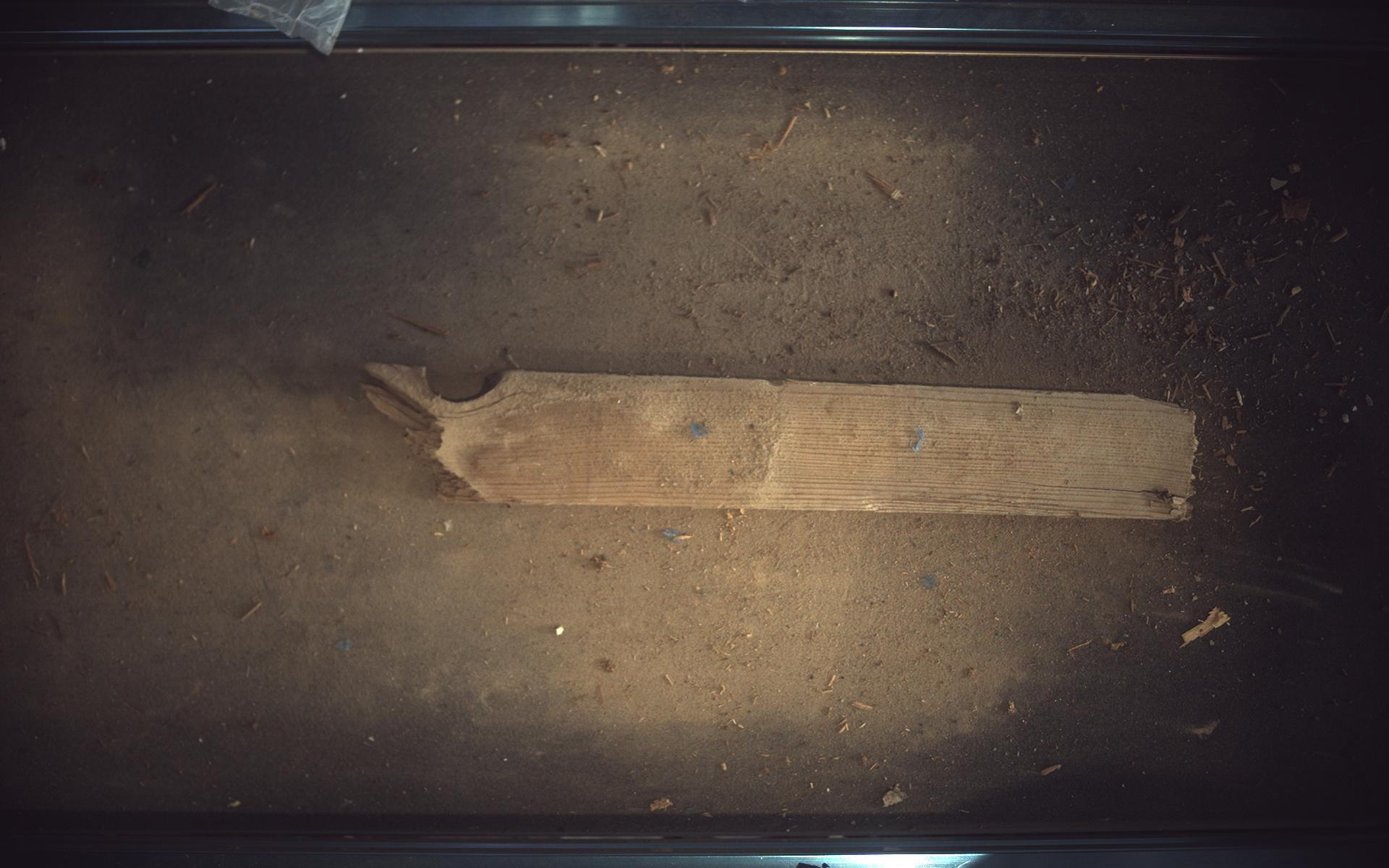wood: (362, 362, 1200, 520)
